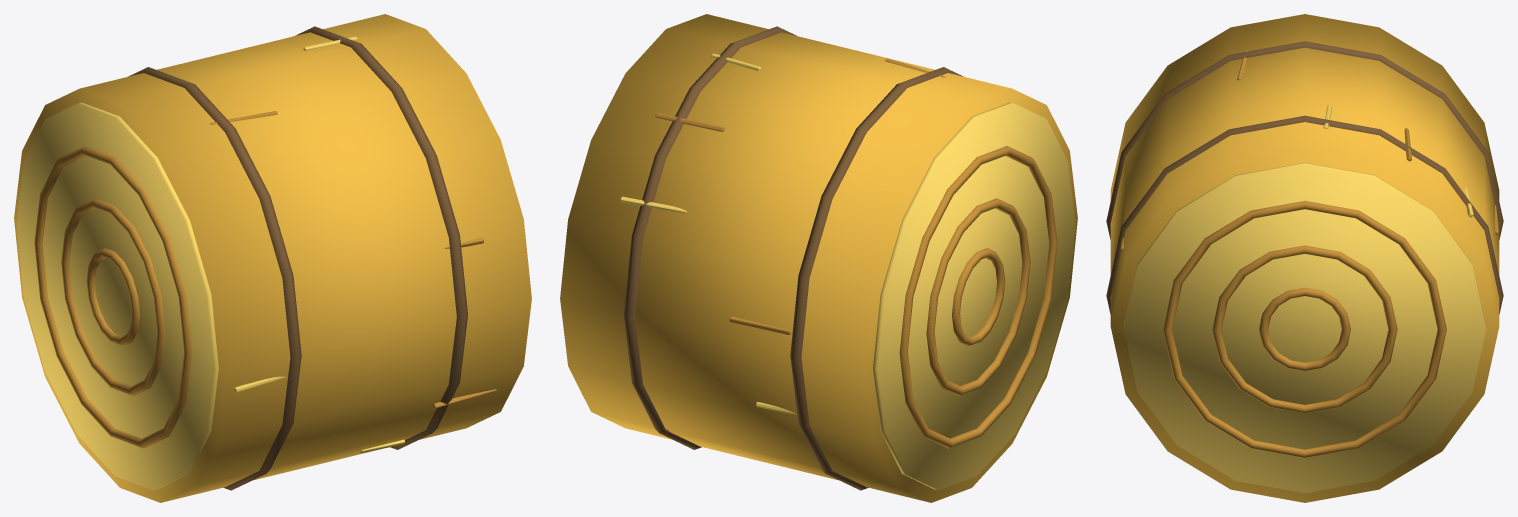
File: FTF_Nature_HayBale_Round_1_5m.glb
3 views of the same model, side by side, from view 1: azimuth 30°, elevation 25°; view 2: azimuth 150°, elevation 25°; view 3: azimuth 270°, elevation 25° (orthographic). The views are drawn at different scales.
Visible parts, largest first — view 1: HayBale_Main, HayBale_End_0, HayBale_Spiral_0_2, HayBale_Twine_0, HayBale_Twine_1, HayBale_Spiral_0_1, HayBale_Spiral_0_0; view 2: HayBale_Main, HayBale_End_0, HayBale_Spiral_0_2, HayBale_Twine_0, HayBale_Twine_1, HayBale_Spiral_0_1, HayBale_Spiral_0_0; view 3: HayBale_End_1, HayBale_Main, HayBale_Spiral_1_2, HayBale_Spiral_1_1, HayBale_Twine_0, HayBale_Twine_1, HayBale_Spiral_1_0.
Part boxes in pixels (x1,y1,x2,y2): HayBale_Main: [14, 14, 531, 502]; HayBale_End_0: [16, 102, 218, 490]; HayBale_Spiral_0_2: [34, 146, 192, 448]; HayBale_Twine_0: [128, 67, 301, 490]; HayBale_Twine_1: [295, 26, 467, 449]; HayBale_Spiral_0_1: [61, 198, 165, 395]; HayBale_Spiral_0_0: [86, 248, 139, 346]; HayBale_Main: [560, 14, 1077, 502]; HayBale_End_0: [873, 102, 1075, 490]; HayBale_Spiral_0_2: [899, 146, 1057, 448]; HayBale_Twine_0: [790, 67, 963, 490]; HayBale_Twine_1: [624, 26, 796, 449]; HayBale_Spiral_0_1: [926, 198, 1030, 395]; HayBale_Spiral_0_0: [952, 248, 1005, 346]; HayBale_End_1: [1123, 162, 1486, 493]; HayBale_Main: [1110, 14, 1499, 502]; HayBale_Spiral_1_2: [1163, 201, 1446, 457]; HayBale_Spiral_1_1: [1212, 245, 1397, 413]; HayBale_Twine_0: [1106, 41, 1503, 239]; HayBale_Twine_1: [1106, 115, 1503, 314]; HayBale_Spiral_1_0: [1259, 287, 1350, 370].
Bounding box in the file's own units: 1.33 × 1.53 × 1.53.
